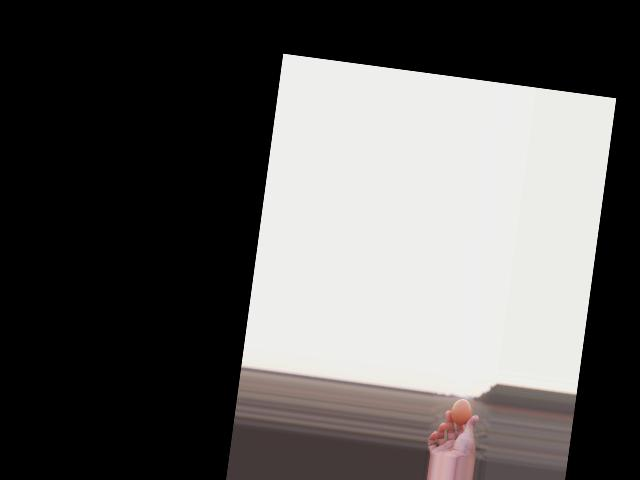egg: (449, 397, 472, 425)
